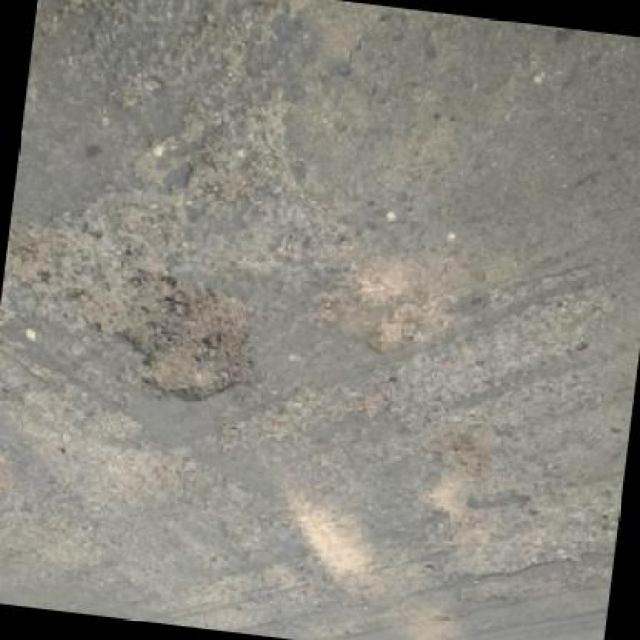pothole1: (113, 281, 270, 414), (180, 84, 306, 214), (362, 297, 424, 360)
